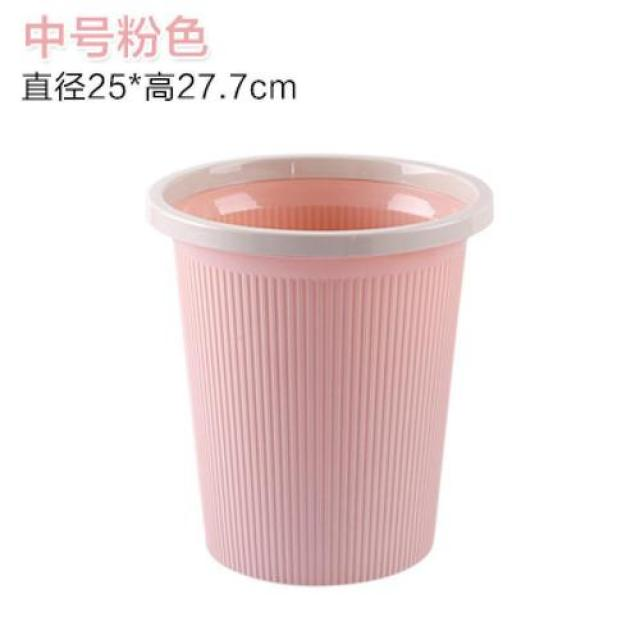dustbin: (141, 148, 499, 588)
